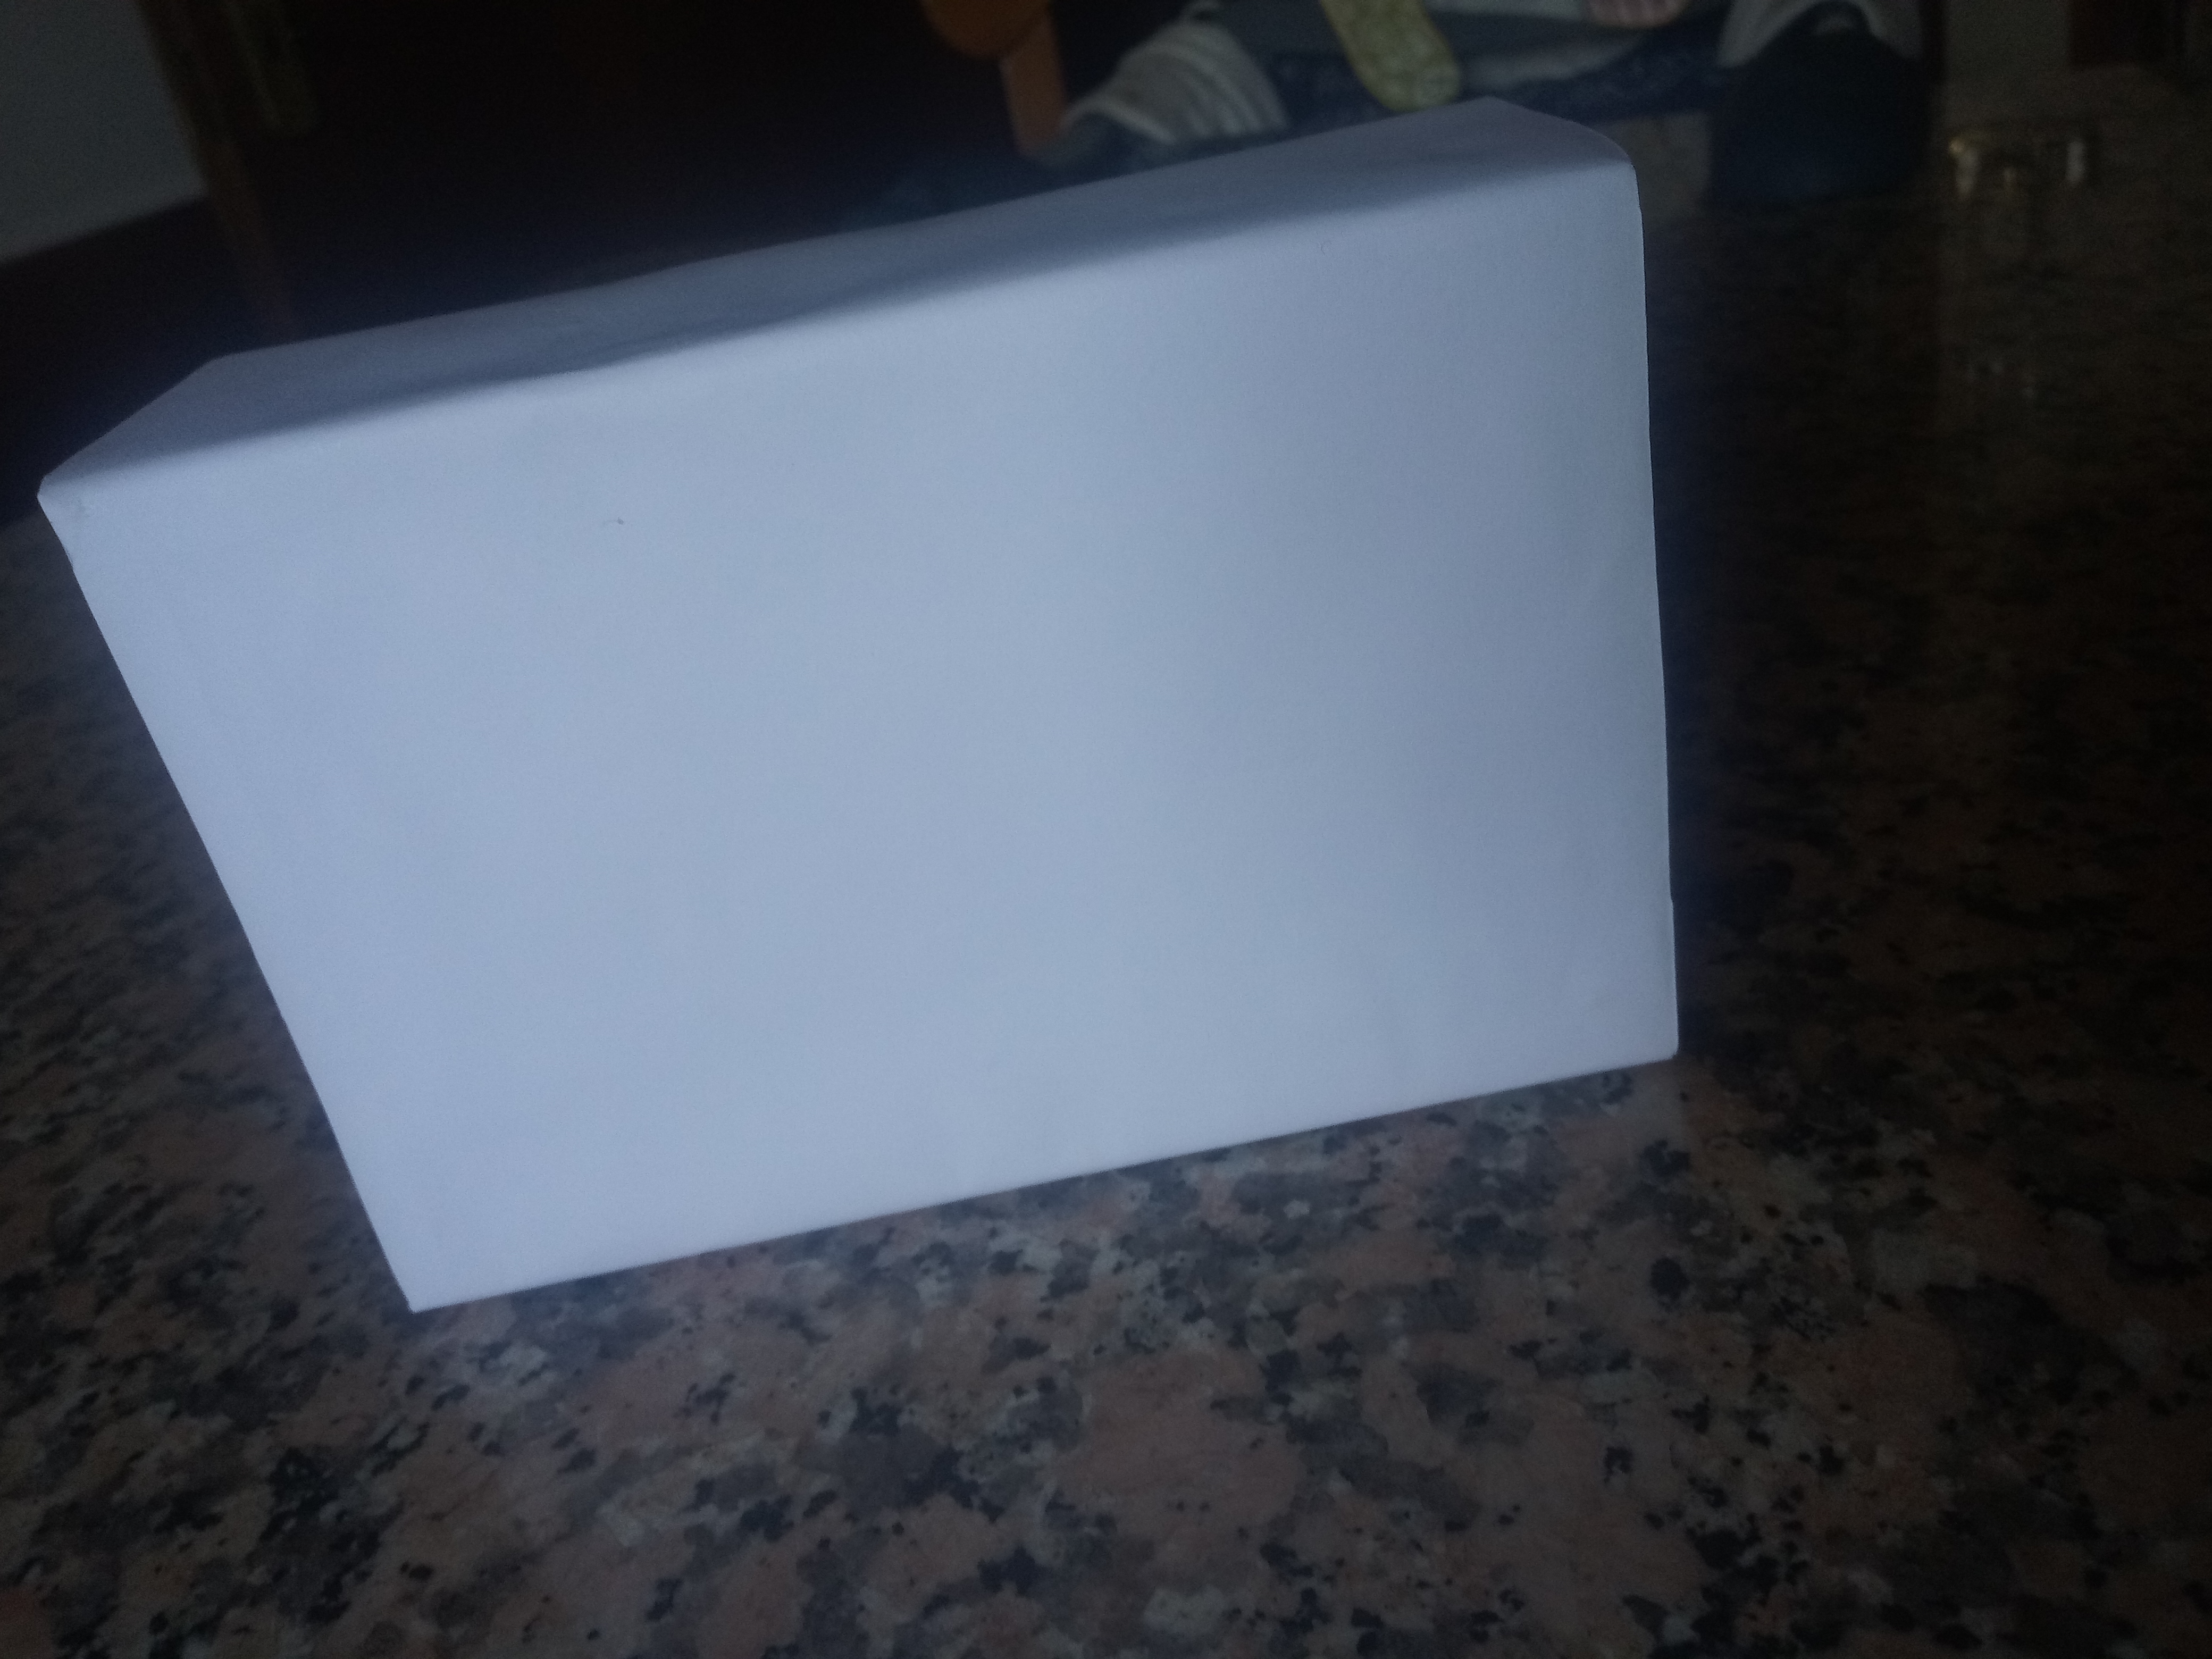white_box: (19, 78, 1730, 1347)
